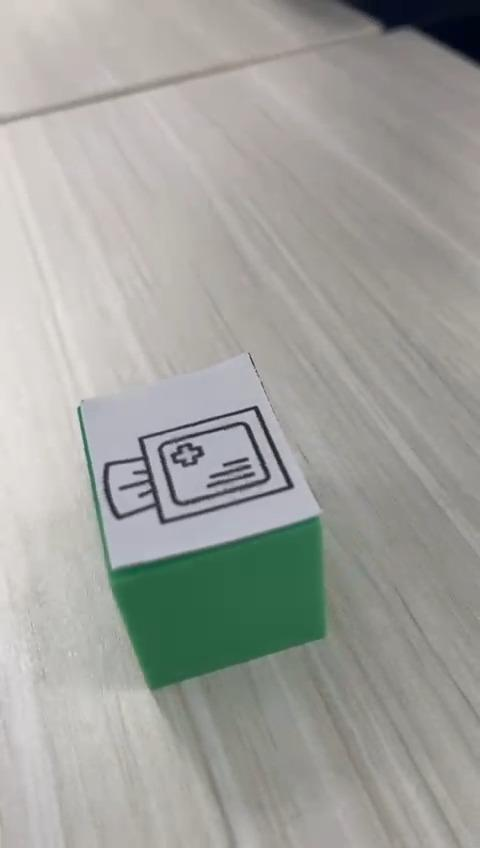Gauze: (75, 350, 328, 690)
